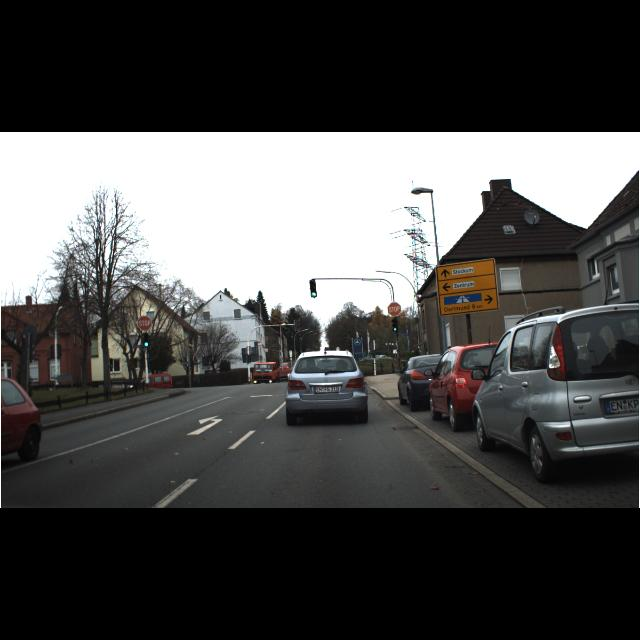other: (386, 302, 402, 316), (136, 316, 152, 330)
